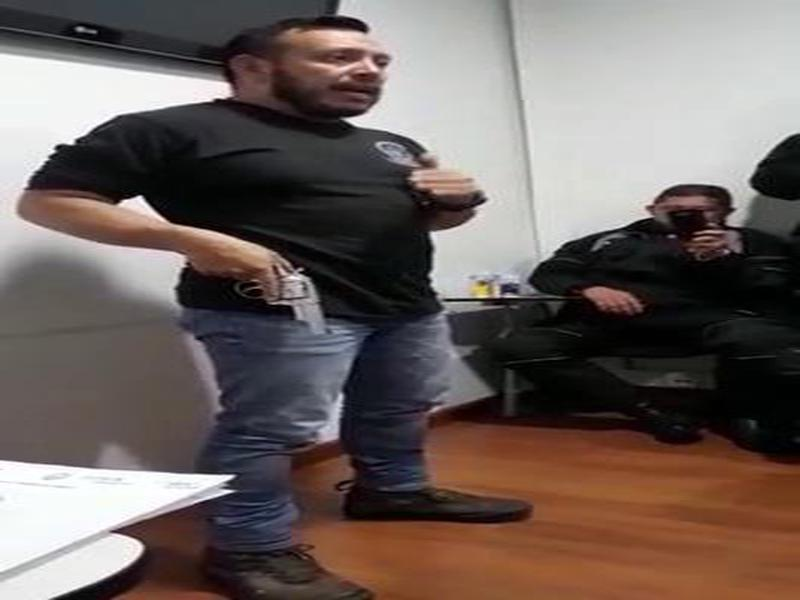Revolver: (224, 235, 348, 358)
